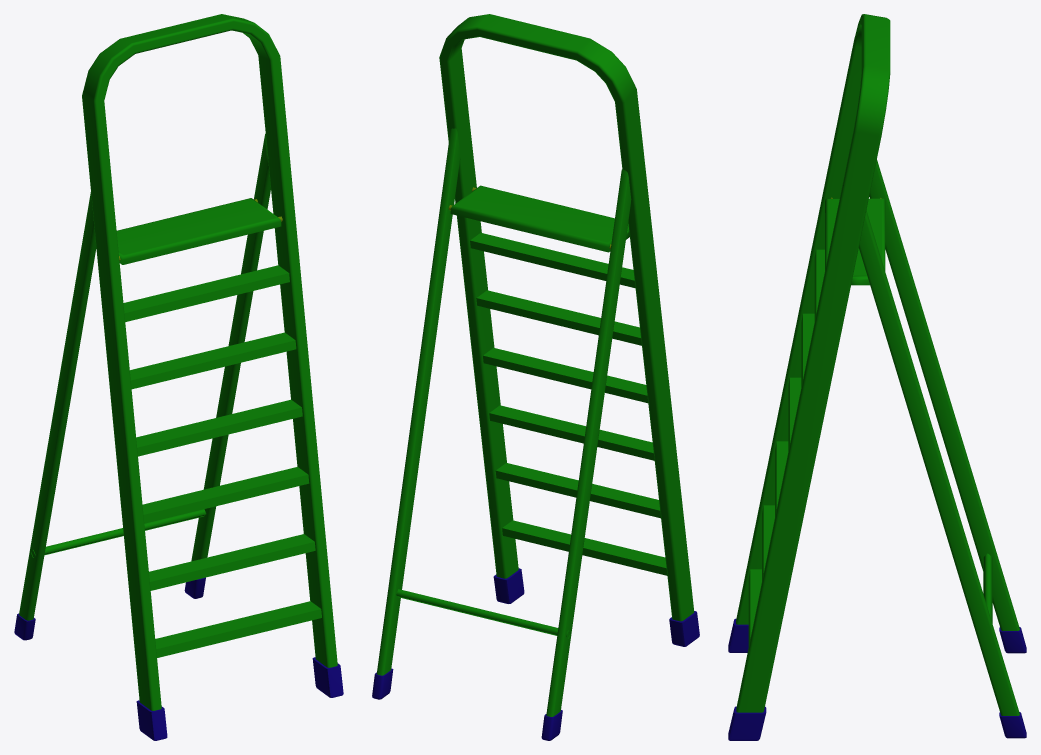
The model's file is SM_Ladder.fbx.
The picture shows the model from 3 angles, left to right: view 1: azimuth 30°, elevation 25°; view 2: azimuth 150°, elevation 25°; view 3: azimuth 270°, elevation 25°; orthographic projection. The views are drawn at different scales.
Visible parts, largest first — view 1: SM_Ladder; view 2: SM_Ladder; view 3: SM_Ladder.
Boxes of the visible parts, x1,y1,x2,y2 form: SM_Ladder: (14, 14, 343, 740); SM_Ladder: (372, 14, 699, 740); SM_Ladder: (728, 14, 1026, 740).
Size of the model in its own units: 93.71 by 301 by 124.
